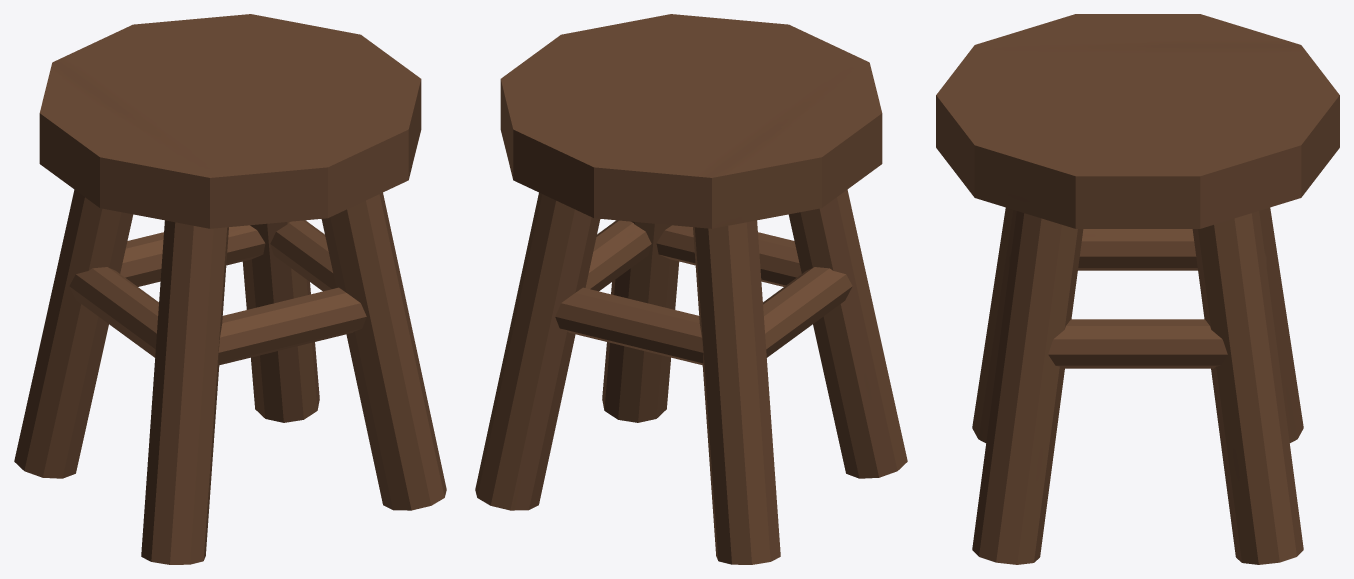
The model's file is Stool.fbx.
3 views of the same model, side by side, from view 1: azimuth 30°, elevation 25°; view 2: azimuth 150°, elevation 25°; view 3: azimuth 270°, elevation 25° (orthographic). The views are drawn at different scales.
Parts seen in each view (by area): view 1: Cylinder.001; view 2: Cylinder.001; view 3: Cylinder.001.
Boxes of the visible parts, box(x1,y1,x2,y2) form: Cylinder.001: box(14, 14, 446, 564); Cylinder.001: box(475, 14, 907, 564); Cylinder.001: box(936, 14, 1339, 564).
Bounding box in the file's own units: 43.57 × 50.45 × 45.81.
1 material, 1 textured.
